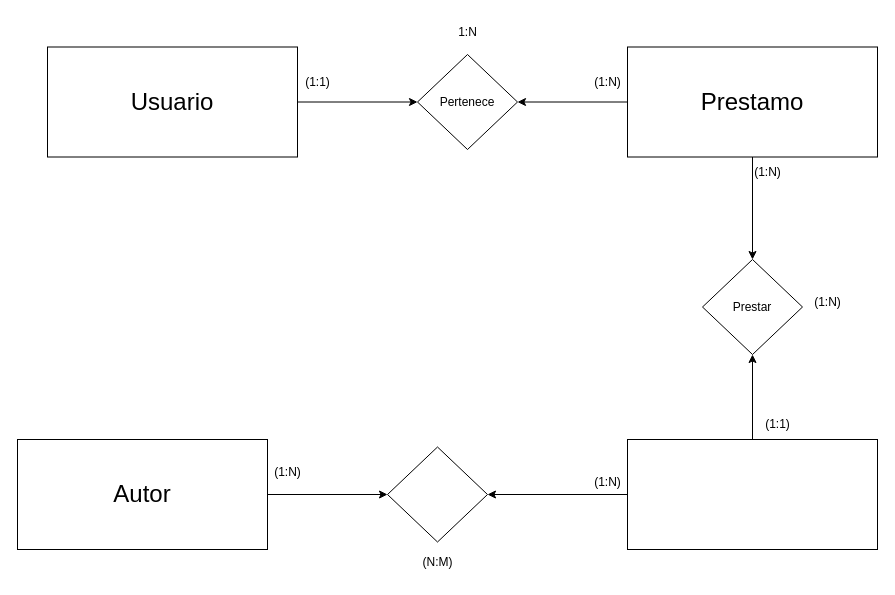
Image size: 895x595. Some labels were removed from this diagram. The shapes that lost their labels are listed below. From the top down, each one's box as (x1, y1, x2, y2) in pixels, then its label:
(386, 446, 488, 542): Escrito
(626, 438, 878, 550): Libro
